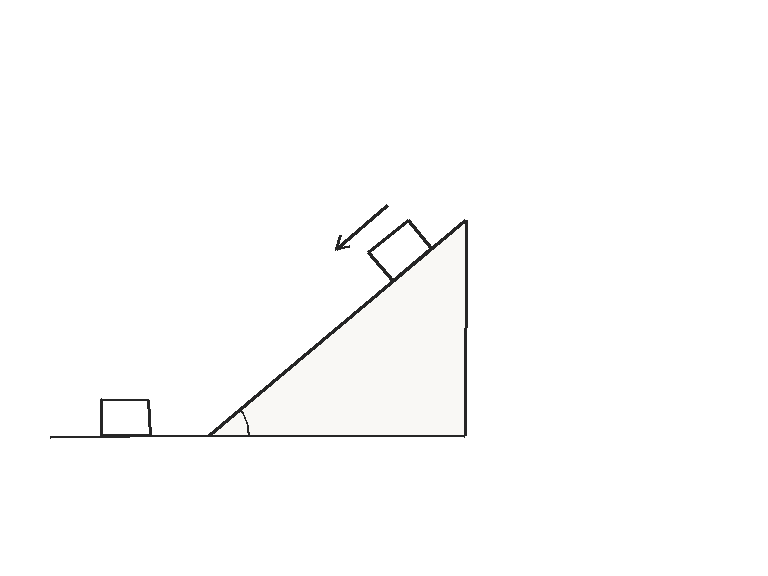block: (366, 218, 433, 283), (99, 397, 151, 437)
ramp: (207, 218, 467, 437)
